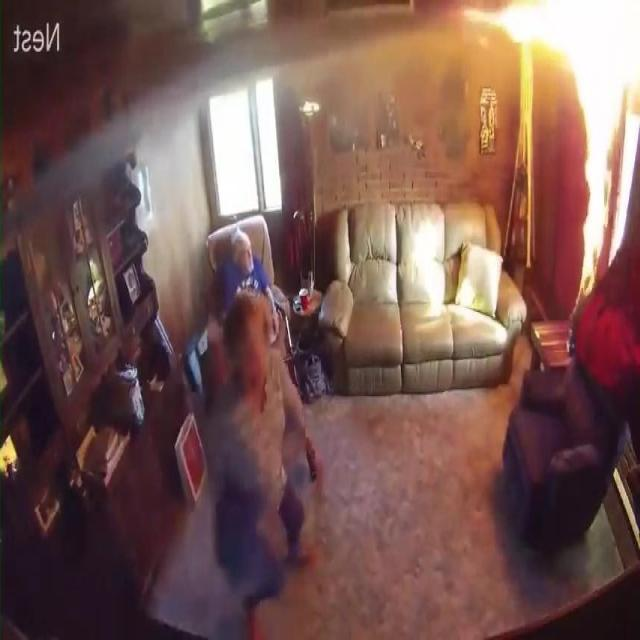fire: (476, 0, 640, 317)
